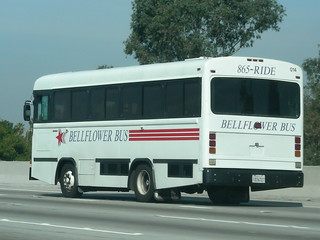bus: (22, 56, 305, 205)
